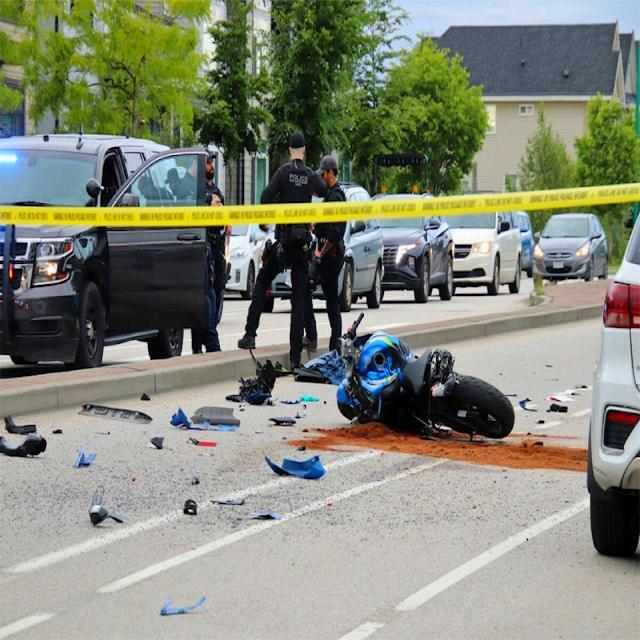high-motorcycle-accident: (197, 285, 554, 485)
